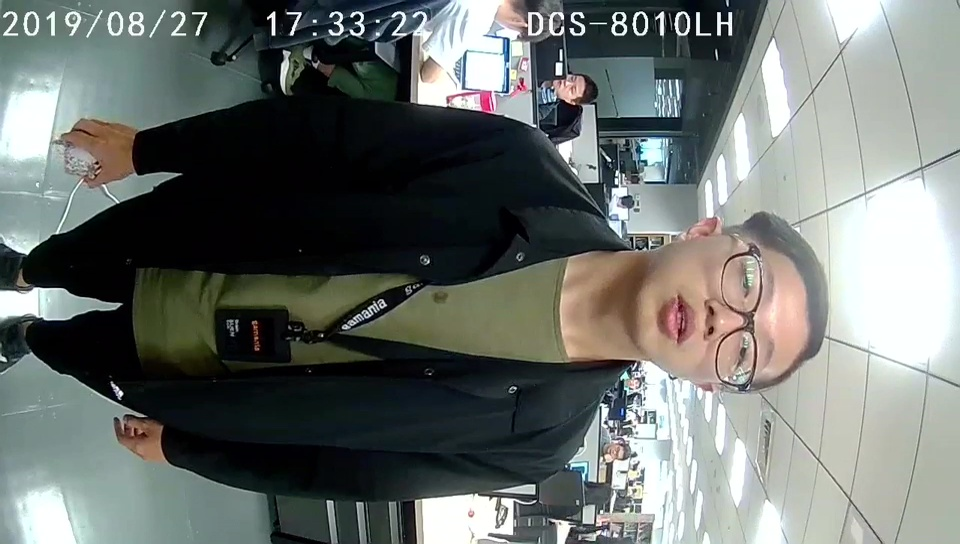pig: (64, 141, 100, 175)
